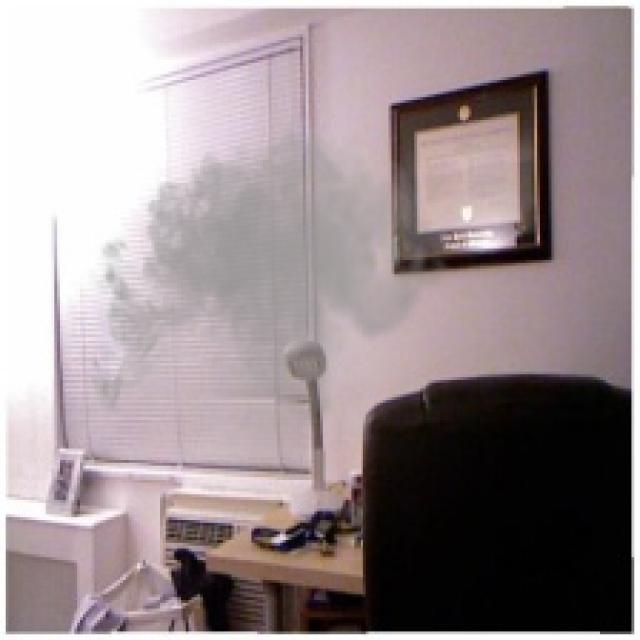smoke: (77, 103, 452, 477)
